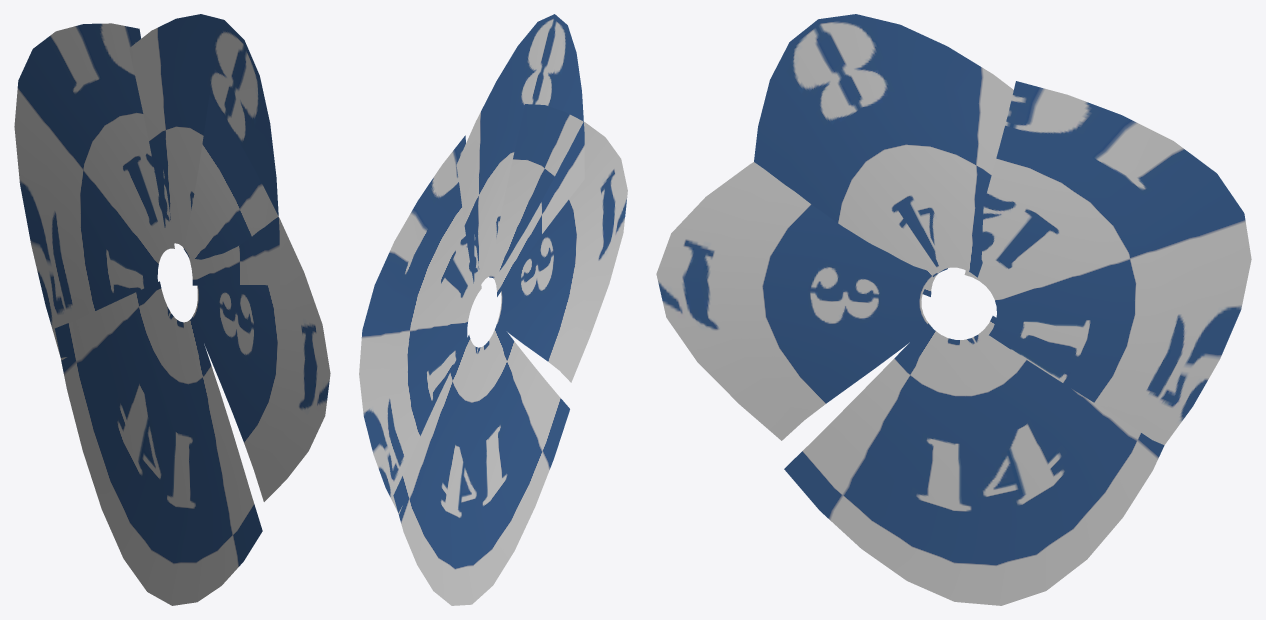
Rendered from Enmu_Sphere4.fbx.
The picture shows the model from 3 angles, left to right: view 1: azimuth 30°, elevation 25°; view 2: azimuth 150°, elevation 25°; view 3: azimuth 270°, elevation 25°; orthographic projection. The views are drawn at different scales.
Parts seen in each view (by area): view 1: SM_e_Plc_P1011_Sphere005; view 2: SM_e_Plc_P1011_Sphere005; view 3: SM_e_Plc_P1011_Sphere005.
Boxes of the visible parts, x1,y1,x2,y2 form: SM_e_Plc_P1011_Sphere005: [14, 14, 330, 605]; SM_e_Plc_P1011_Sphere005: [359, 14, 627, 605]; SM_e_Plc_P1011_Sphere005: [656, 14, 1251, 605].
Size of the model in its own units: 2.01 by 150 by 137.
